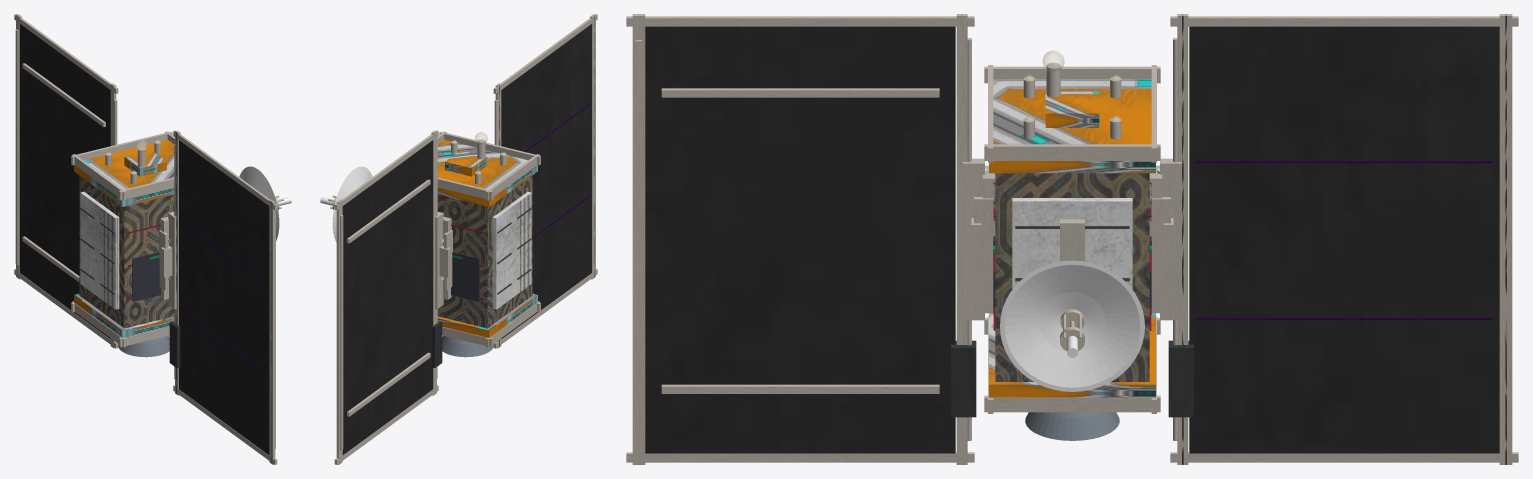
Rendered from satellite_with_articulated_solar_panels__0000.glb.
3 views of the same model, side by side, from view 1: azimuth 30°, elevation 25°; view 2: azimuth 150°, elevation 25°; view 3: azimuth 270°, elevation 25° (orthographic). The views are drawn at different scales.
Parts seen in each view (by area): view 1: right_solar_wing::panel_backing_0, left_solar_wing::panel_backing_0, bus::main_bus, bus::radiator_minus_x, bus::top_deck, right_solar_wing::outer_frame_rail, bus::minus_y_mli_blanket_panel, bus::bottom_deck, left_solar_wing::segment_side_rail_0, right_solar_wing::top_frame_rail, left_solar_wing::top_frame_rail, bus::top_frame_plus_y (+18 smaller); view 2: left_solar_wing::panel_backing_0, right_solar_wing::panel_backing_0, bus::main_bus, bus::radiator_minus_x, bus::top_deck, bus::plus_y_mli_blanket_panel, left_solar_wing::outer_frame_rail, right_solar_wing::outer_frame_rail, bus::bottom_deck, left_solar_wing::segment_side_rail_0, left_solar_wing::inner_frame_rail, bus::sensor_plinth (+18 smaller); view 3: left_solar_wing::panel_backing_0, right_solar_wing::panel_backing_0, high_gain_antenna::dish_shell, bus::top_deck, bus::main_bus, bus::radiator_plus_x, left_solar_wing::outer_frame_rail, right_solar_wing::outer_frame_rail, right_solar_wing::inner_frame_rail, left_solar_wing::top_frame_rail, right_solar_wing::top_frame_rail, left_solar_wing::inner_frame_rail (+20 smaller).
Boxes of the visible parts, x1,y1,x2,y2 form: right_solar_wing::panel_backing_0: (179, 140, 269, 454); left_solar_wing::panel_backing_0: (20, 24, 110, 338); bus::main_bus: (79, 175, 174, 328); bus::radiator_minus_x: (80, 191, 119, 309); bus::top_deck: (74, 140, 174, 206); right_solar_wing::outer_frame_rail: (269, 199, 275, 464); bus::minus_y_mli_blanket_panel: (132, 252, 160, 301); bus::bottom_deck: (74, 294, 174, 337); left_solar_wing::segment_side_rail_0: (15, 29, 18, 264); right_solar_wing::top_frame_rail: (173, 130, 277, 210); left_solar_wing::top_frame_rail: (14, 14, 118, 93); bus::top_frame_plus_y: (71, 131, 172, 165); left_solar_wing::panel_backing_0: (342, 140, 432, 454); right_solar_wing::panel_backing_0: (501, 24, 591, 338); bus::main_bus: (437, 175, 532, 328); bus::radiator_minus_x: (492, 191, 531, 309); bus::top_deck: (437, 140, 537, 206); bus::plus_y_mli_blanket_panel: (451, 252, 479, 301); left_solar_wing::outer_frame_rail: (336, 199, 342, 464); right_solar_wing::outer_frame_rail: (590, 14, 595, 279); bus::bottom_deck: (437, 294, 537, 337); left_solar_wing::segment_side_rail_0: (340, 215, 343, 450); left_solar_wing::inner_frame_rail: (431, 130, 436, 395); bus::sensor_plinth: (445, 150, 487, 176); left_solar_wing::panel_backing_0: (1189, 26, 1499, 453); right_solar_wing::panel_backing_0: (645, 26, 955, 453); high_gain_antenna::dish_shell: (1000, 260, 1144, 391); bus::top_deck: (989, 79, 1155, 173); bus::main_bus: (995, 173, 1149, 381); bus::radiator_plus_x: (1012, 198, 1132, 289); left_solar_wing::outer_frame_rail: (1499, 14, 1512, 464); right_solar_wing::outer_frame_rail: (632, 14, 645, 464); right_solar_wing::inner_frame_rail: (956, 14, 967, 464); left_solar_wing::top_frame_rail: (1170, 16, 1518, 26); right_solar_wing::top_frame_rail: (626, 16, 974, 26); left_solar_wing::inner_frame_rail: (1177, 14, 1188, 464).
Bounding box in the file's own units: 2.44 × 3.14 × 5.66.
19 materials, 16 textured.
